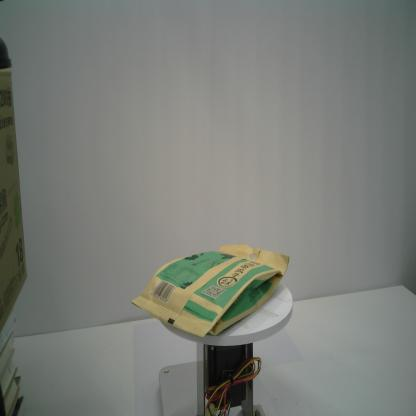Dried Food: (130, 241, 292, 341)
